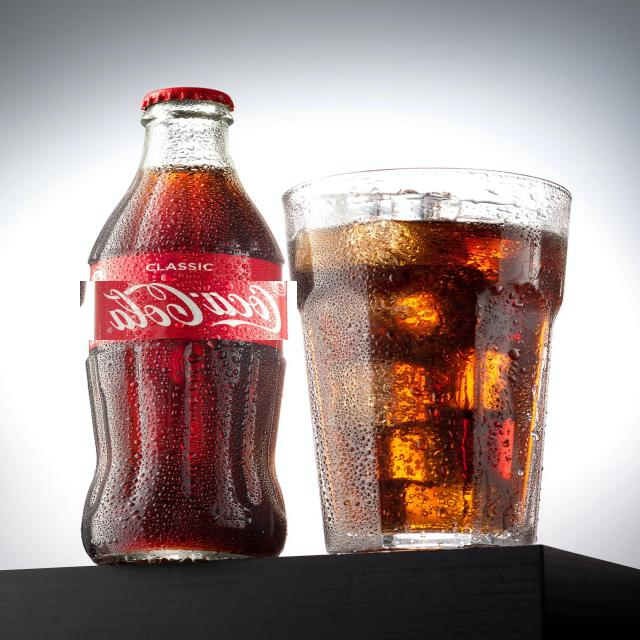coca-cola: (80, 281, 297, 340)
